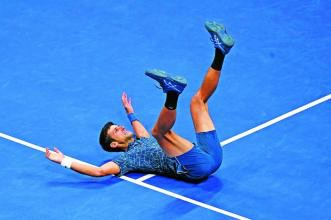fall: (26, 21, 264, 180)
